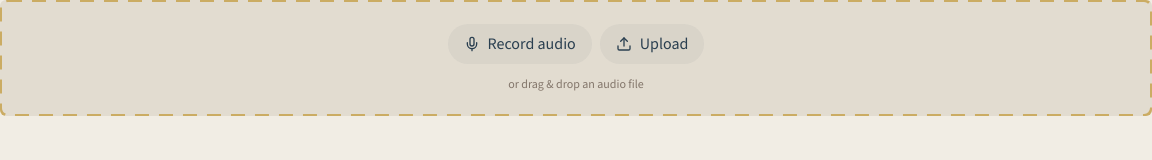
Test case: Sounds microphone recording › releases the microphone and never attaches audio after closing
Click the button "Record audio": coordinates (520, 44) x1=448 y1=24 x2=592 y2=64
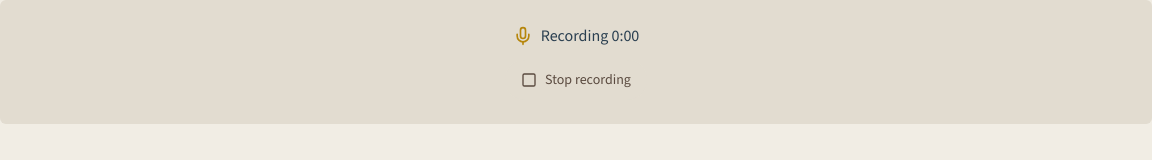
Expected: the button "Stop recording" is shown, x1=505 y1=60 x2=647 y2=100
